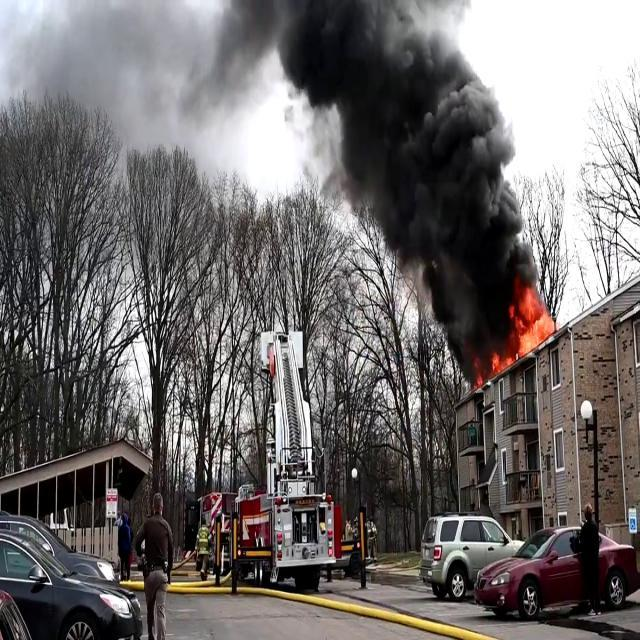Fire: (509, 282, 556, 359)
Smoke: (286, 0, 537, 340)
